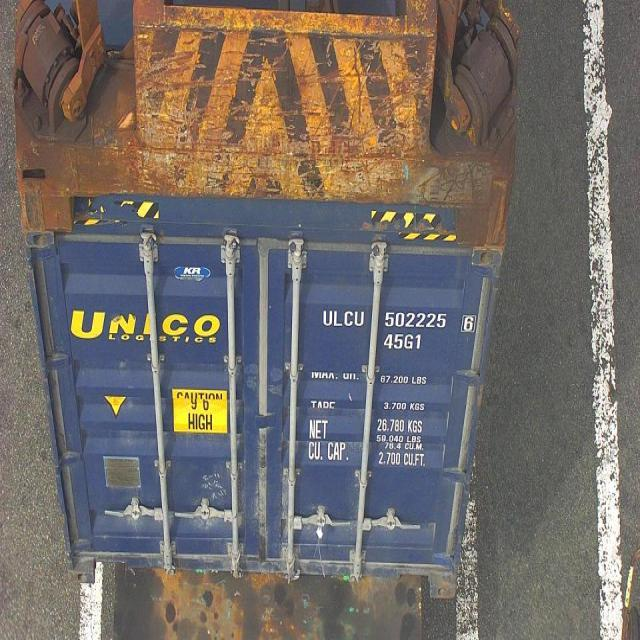ISO: (386, 334, 422, 352)
container_number: (322, 307, 477, 334)
